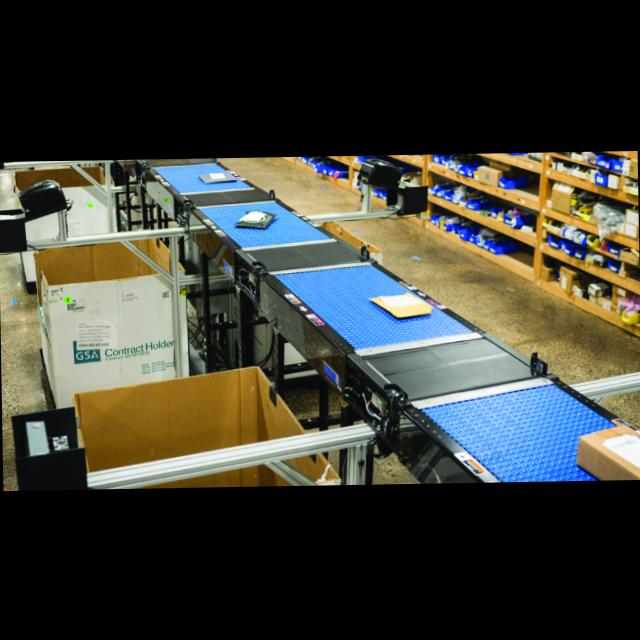box: (574, 424, 640, 480)
mailer: (369, 289, 432, 320), (234, 208, 274, 228), (198, 171, 236, 183)
